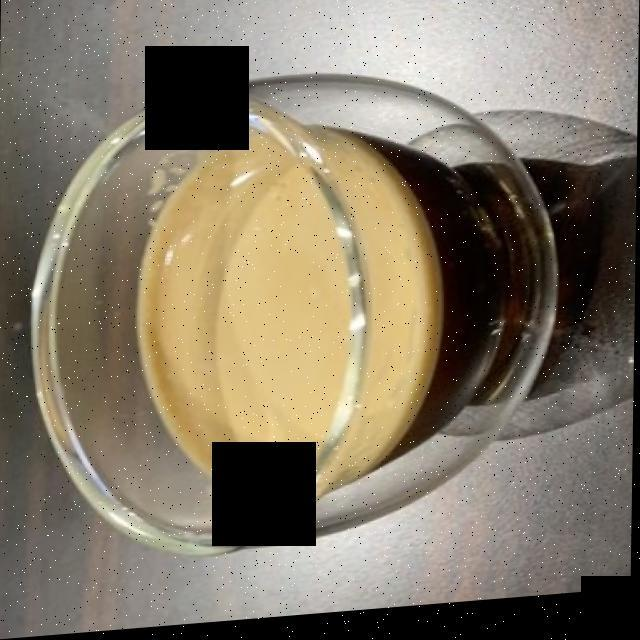espresso: (143, 158, 522, 498)
